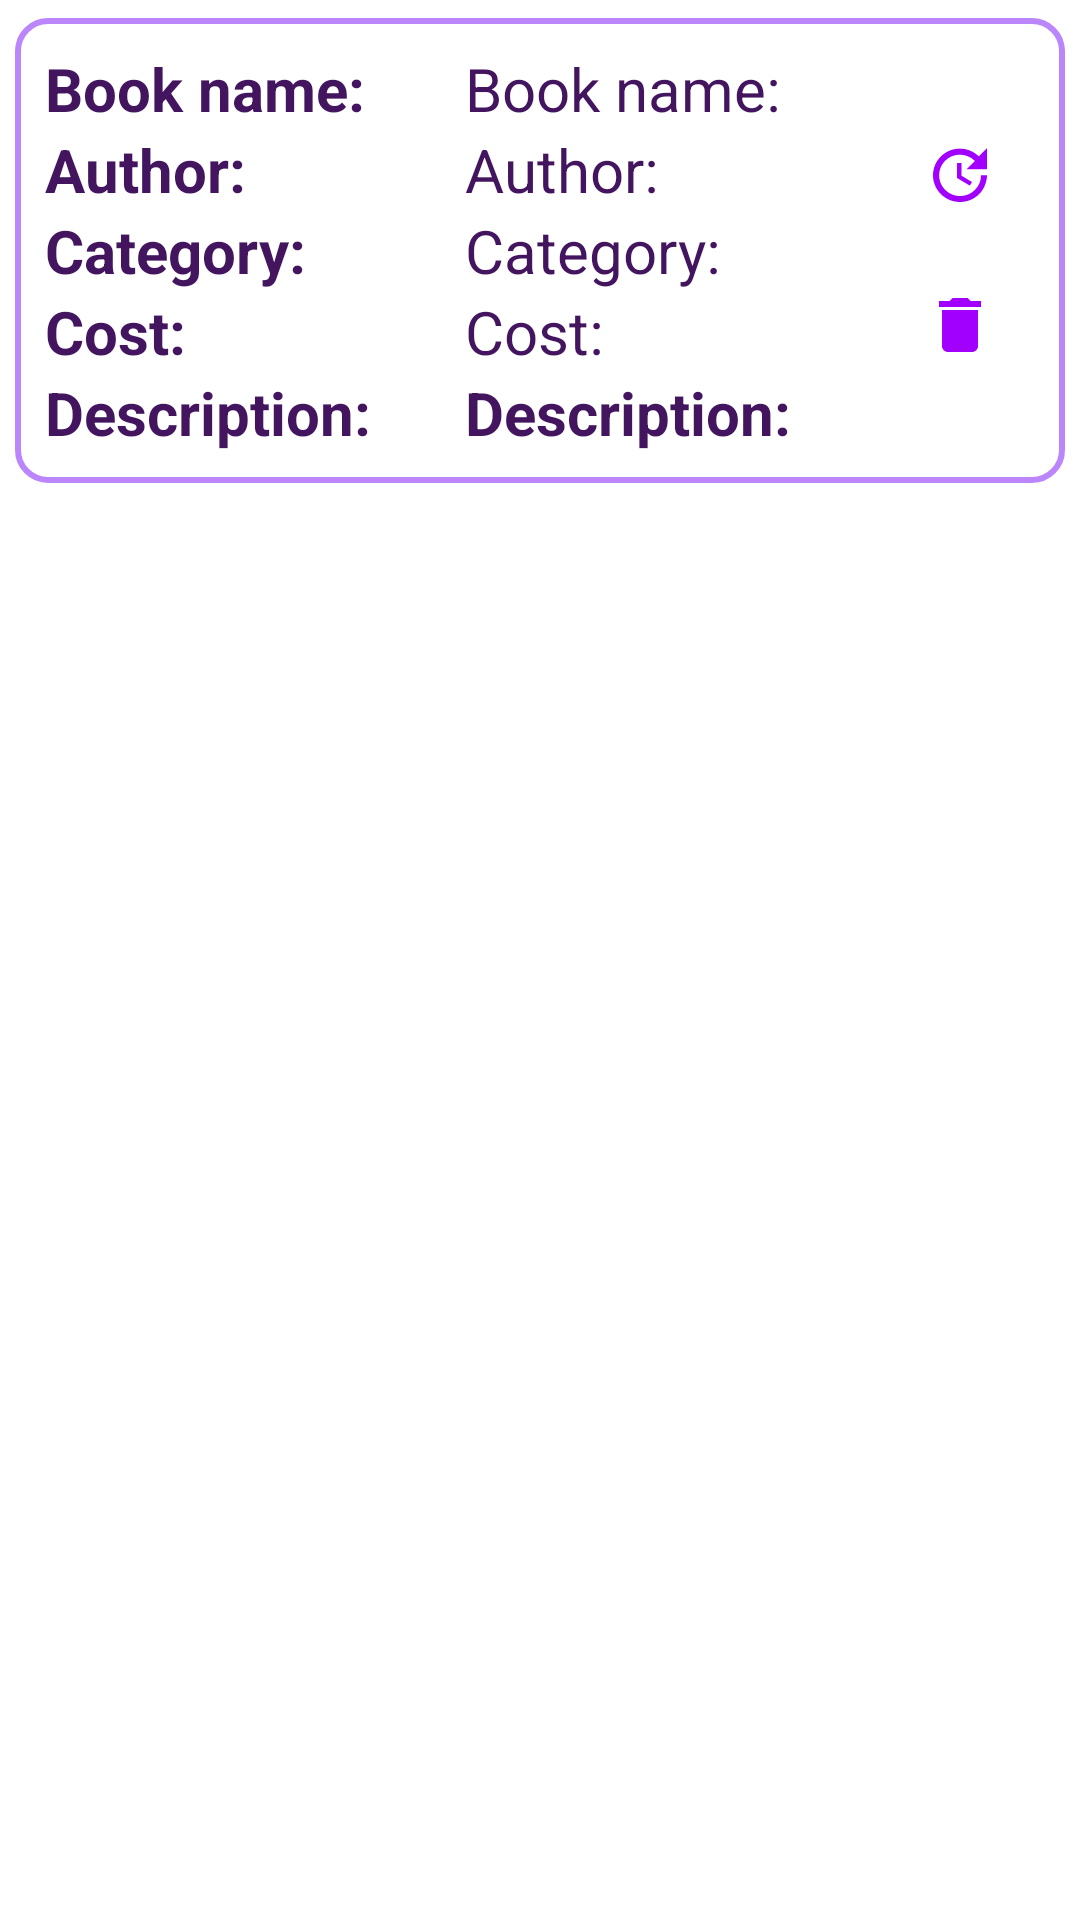

Icons on this 1080x1920 Android screen, each with its box as BBox(x1, y1, x2, y2):
delete: BBox(939, 298, 981, 352)
update: BBox(933, 148, 987, 202)
